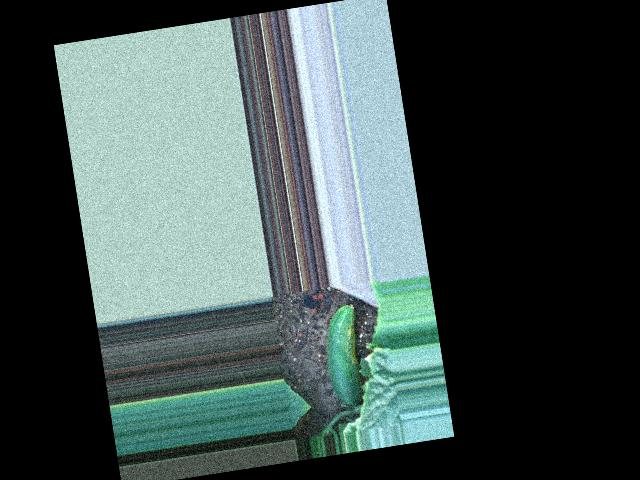cucumber: (319, 303, 369, 408)
